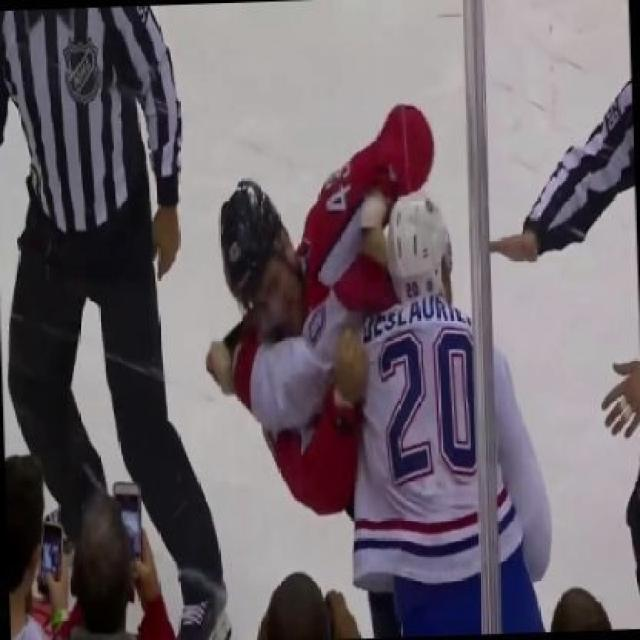fight: (200, 101, 556, 640)
non-fight: (0, 0, 232, 638)
